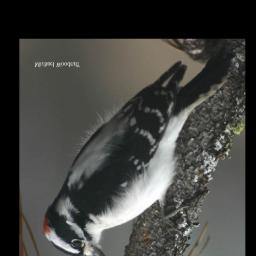Woodpecker: (43, 49, 234, 256)
